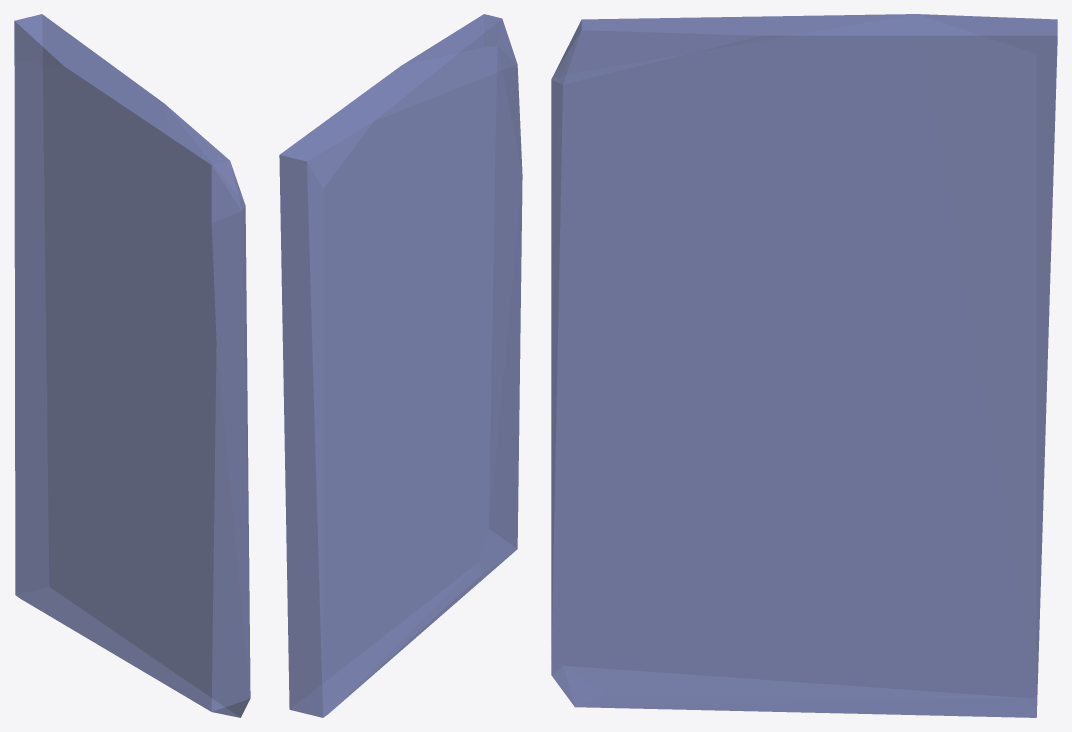
The picture shows the model from 3 angles, left to right: view 1: azimuth 30°, elevation 25°; view 2: azimuth 150°, elevation 25°; view 3: azimuth 270°, elevation 25°; orthographic projection. The views are drawn at different scales.
Visible parts, largest first — view 1: Shape_IndexedFaceSet.025_Shape_IndexedFaceSet.18086; view 2: Shape_IndexedFaceSet.025_Shape_IndexedFaceSet.18086; view 3: Shape_IndexedFaceSet.025_Shape_IndexedFaceSet.18086.
Boxes of the visible parts, <box> form: Shape_IndexedFaceSet.025_Shape_IndexedFaceSet.18086: <box>14,14,250,717</box>; Shape_IndexedFaceSet.025_Shape_IndexedFaceSet.18086: <box>279,14,522,717</box>; Shape_IndexedFaceSet.025_Shape_IndexedFaceSet.18086: <box>551,14,1057,717</box>.
Size of the model in its own units: 0.0128 by 0.1879 by 0.1263.
